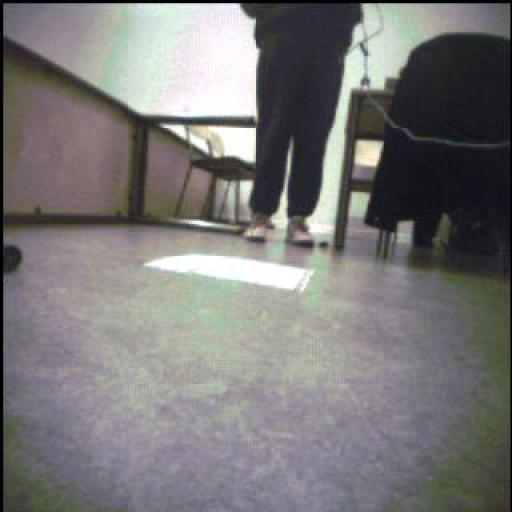Pad: (145, 256, 315, 293)
